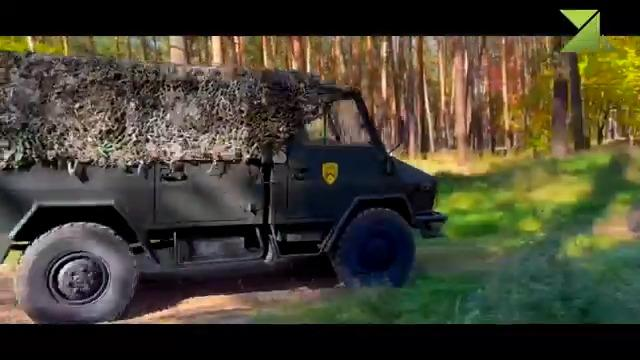MIL_HMMWV: (0, 49, 446, 321)
